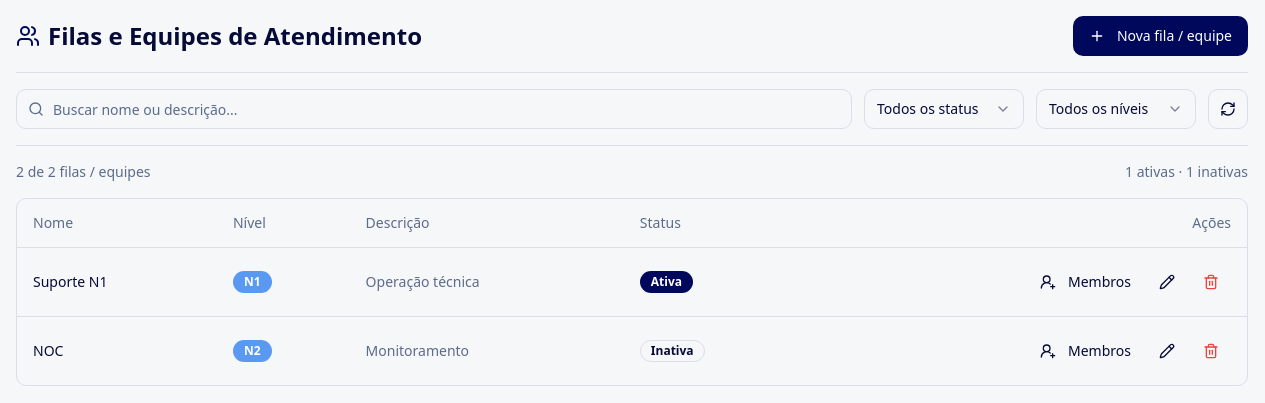
Test: busca por descrição e limpa filtros sem perder filas
The image size is (1265, 403).
Expected: the text "Suporte N1" is shown, [17,247,217,316]
In the field named "Pesquisar filas e equipes": (434,109) [16,89,852,129], type "operacao"
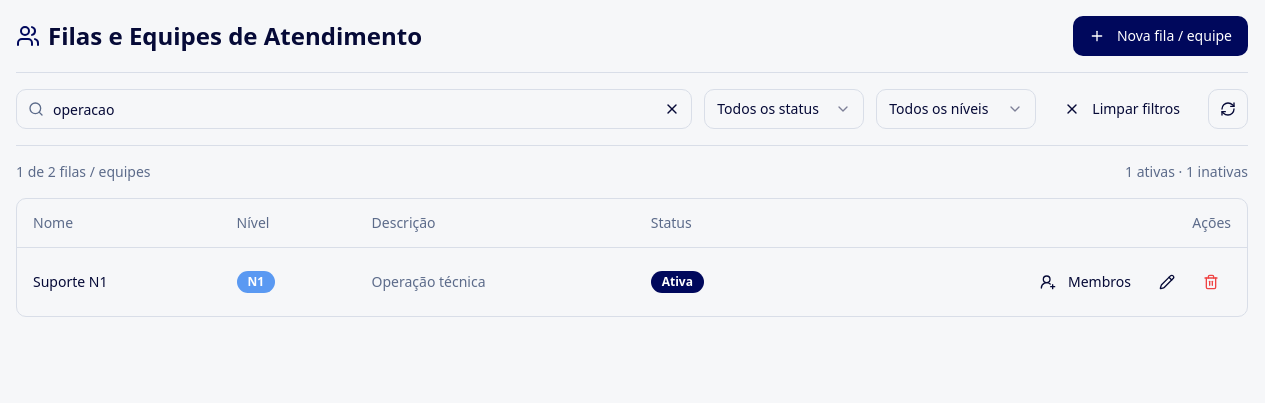
Expected: the text "Suporte N1" is shown, [17,247,220,316]
Result: the text "NOC" is gone
Click the button named "Limpar busca": (672,109) [652,89,692,129]
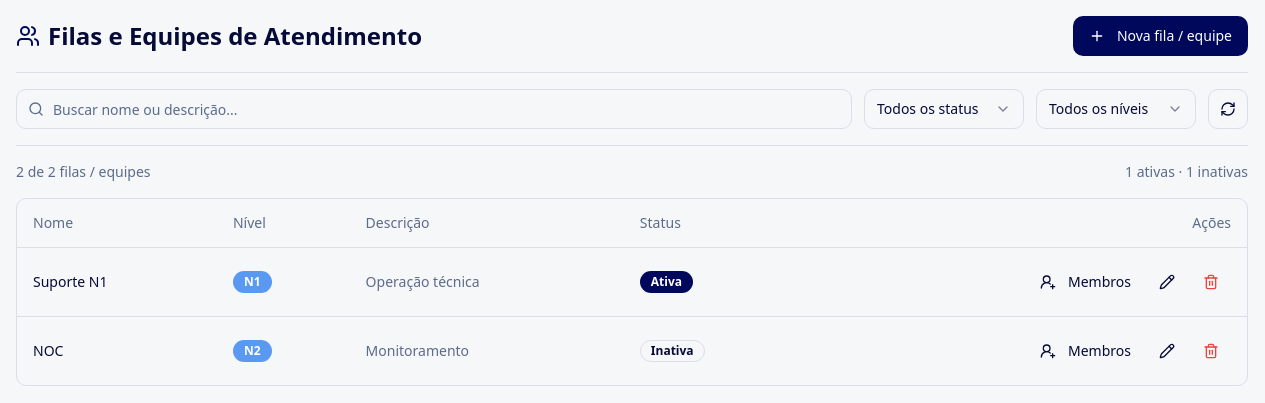
Result: the text "NOC" is shown at [17,316,217,384]
